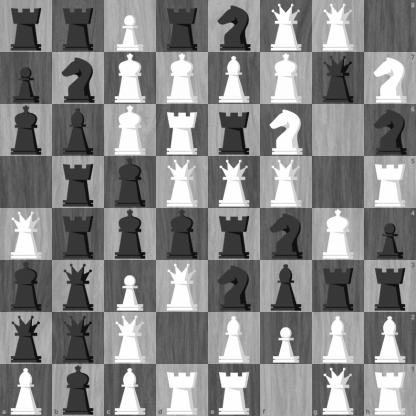B: (0, 364, 52, 416), (104, 364, 156, 416), (364, 312, 416, 364), (209, 53, 260, 104), (209, 313, 260, 364), (313, 313, 364, 364)
K: (105, 53, 156, 104), (105, 105, 156, 156), (157, 53, 208, 104), (261, 53, 312, 104), (313, 209, 364, 260)
N: (364, 52, 416, 104), (261, 105, 312, 156)
P: (105, 1, 156, 52), (105, 261, 156, 312), (261, 313, 312, 364)
Q: (312, 364, 364, 416), (1, 209, 52, 260), (105, 313, 156, 364), (157, 157, 208, 208), (157, 261, 208, 312), (209, 157, 260, 208), (261, 1, 312, 52), (261, 157, 312, 208), (313, 1, 364, 52)
R: (156, 364, 209, 416), (364, 156, 416, 209), (364, 364, 416, 416), (209, 364, 260, 416), (157, 105, 208, 156)
b: (53, 105, 104, 156), (261, 261, 312, 312)
board: (0, 0, 415, 415)
k: (52, 364, 104, 416), (1, 105, 52, 156), (1, 261, 52, 312), (105, 157, 156, 208), (105, 209, 156, 260), (157, 209, 208, 260)
n: (364, 104, 416, 156), (53, 53, 104, 104), (209, 1, 260, 52), (209, 261, 260, 312), (261, 209, 312, 260)
p: (364, 209, 416, 260), (1, 53, 52, 104)
q: (1, 313, 52, 364), (53, 261, 104, 312), (53, 313, 104, 364), (313, 53, 364, 104)
r: (364, 260, 416, 312), (1, 1, 52, 52), (53, 1, 104, 52), (53, 157, 104, 208), (53, 209, 104, 260), (157, 1, 208, 52), (209, 105, 260, 156), (209, 209, 260, 260), (313, 261, 364, 312)
